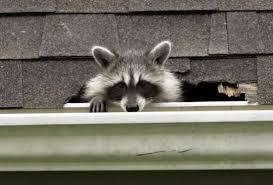raccoon: (80, 39, 186, 115)
